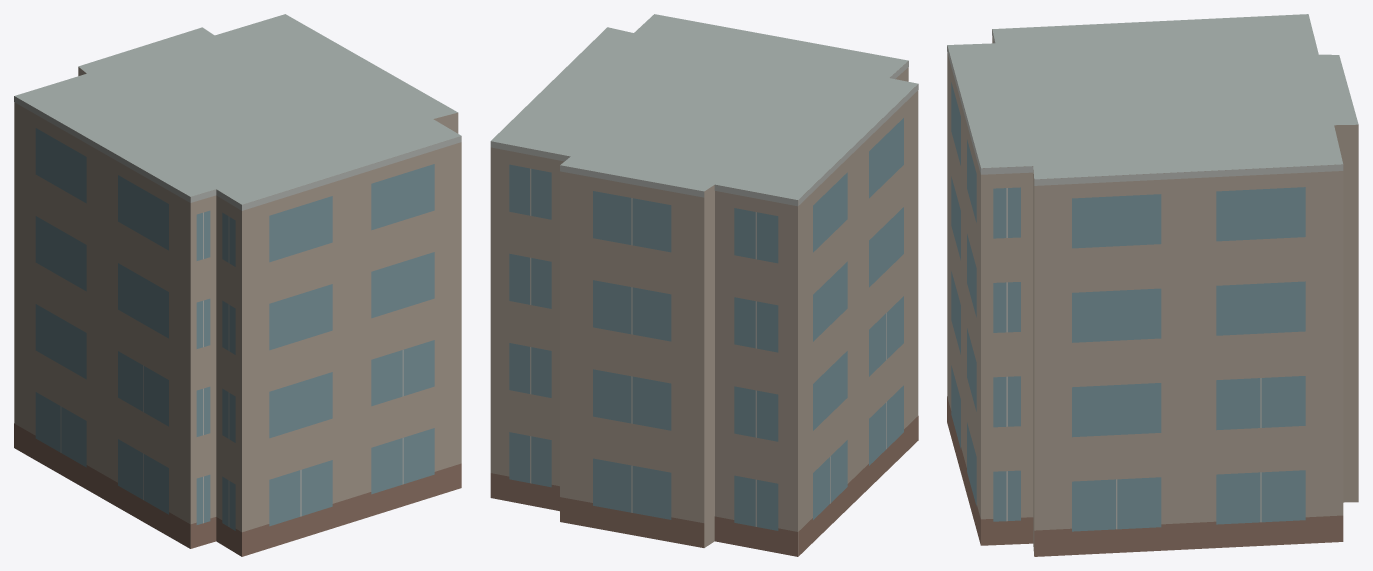
File: survey-upis-32583960.glb
The picture shows the model from 3 angles, left to right: view 1: azimuth 30°, elevation 25°; view 2: azimuth 150°, elevation 25°; view 3: azimuth 270°, elevation 25°; orthographic projection. The views are drawn at different scales.
Visible parts, largest first — view 1: survey-upis-32583960.tmp; view 2: survey-upis-32583960.tmp; view 3: survey-upis-32583960.tmp.
Boxes of the visible parts, x1,y1,x2,y2 form: survey-upis-32583960.tmp: [14, 14, 461, 556]; survey-upis-32583960.tmp: [490, 14, 918, 556]; survey-upis-32583960.tmp: [947, 14, 1358, 556].
Size of the model in its own units: 13.19 by 14.03 by 13.87.
